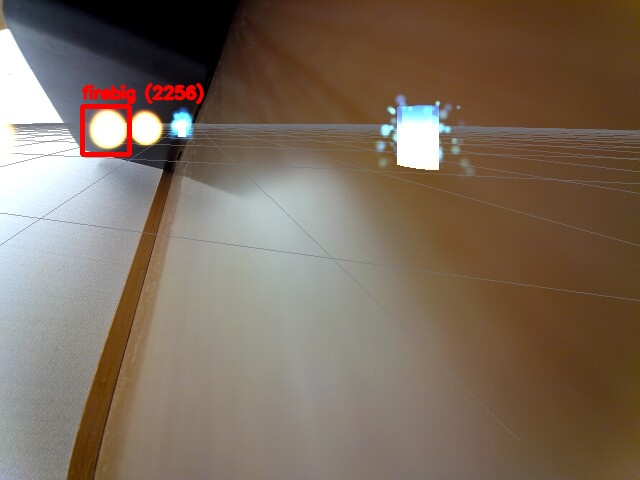firebig: (82, 106, 129, 154)
